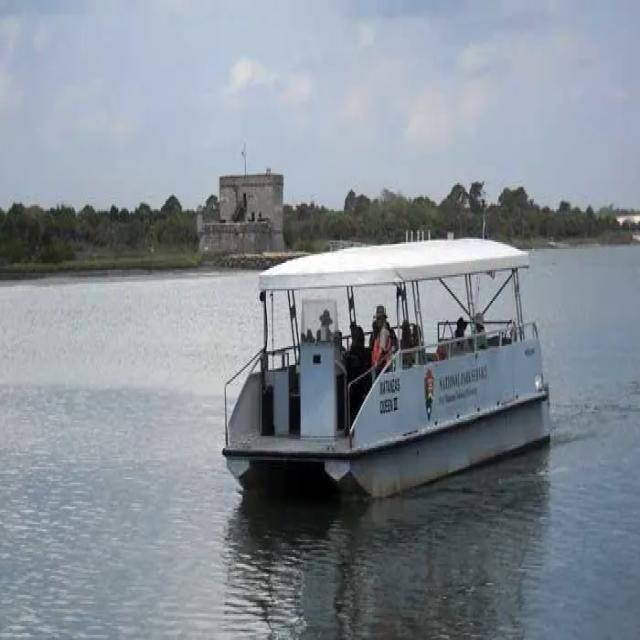houseboat: (215, 202, 560, 494)
